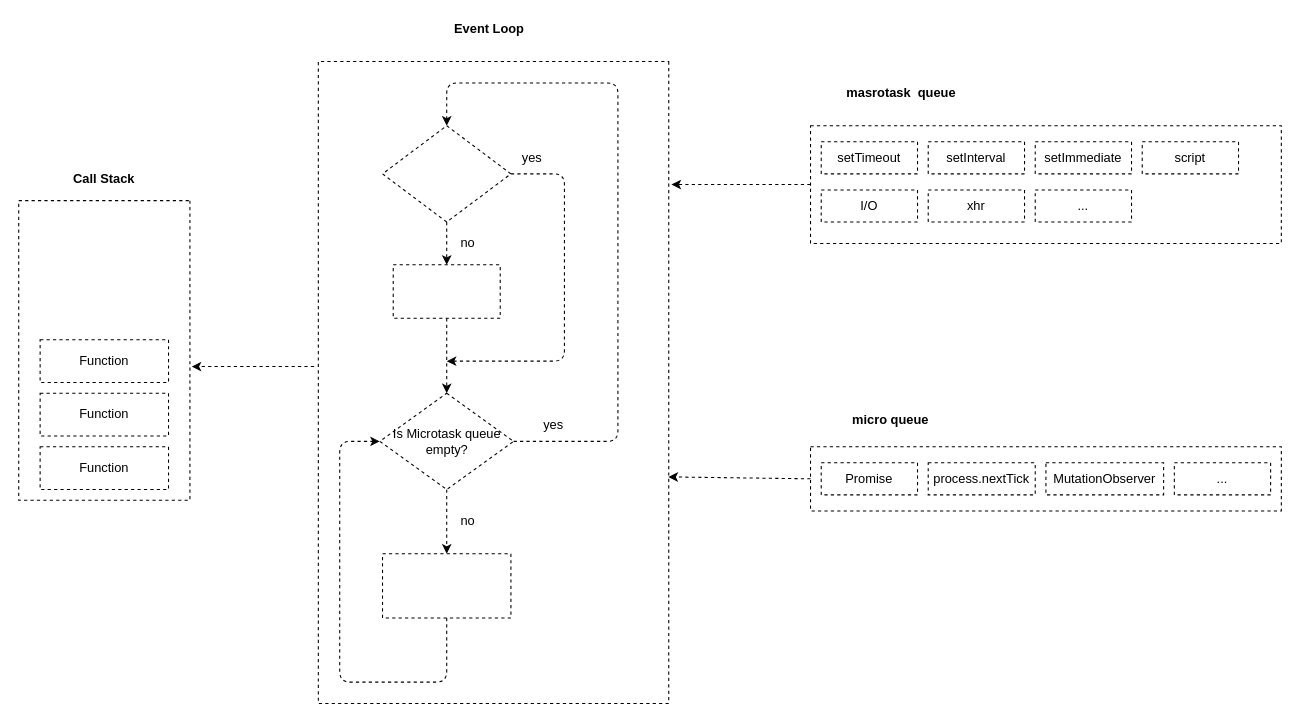
Some shapes in this 1300 by 722 pixel diagram are drawn without their labels. Each missing label, with the centre of its shape:
"Is Macrotask queue empty?" goes at point (446, 173).
"Process all microtask" goes at point (446, 585).
"Process one task" goes at point (446, 291).
